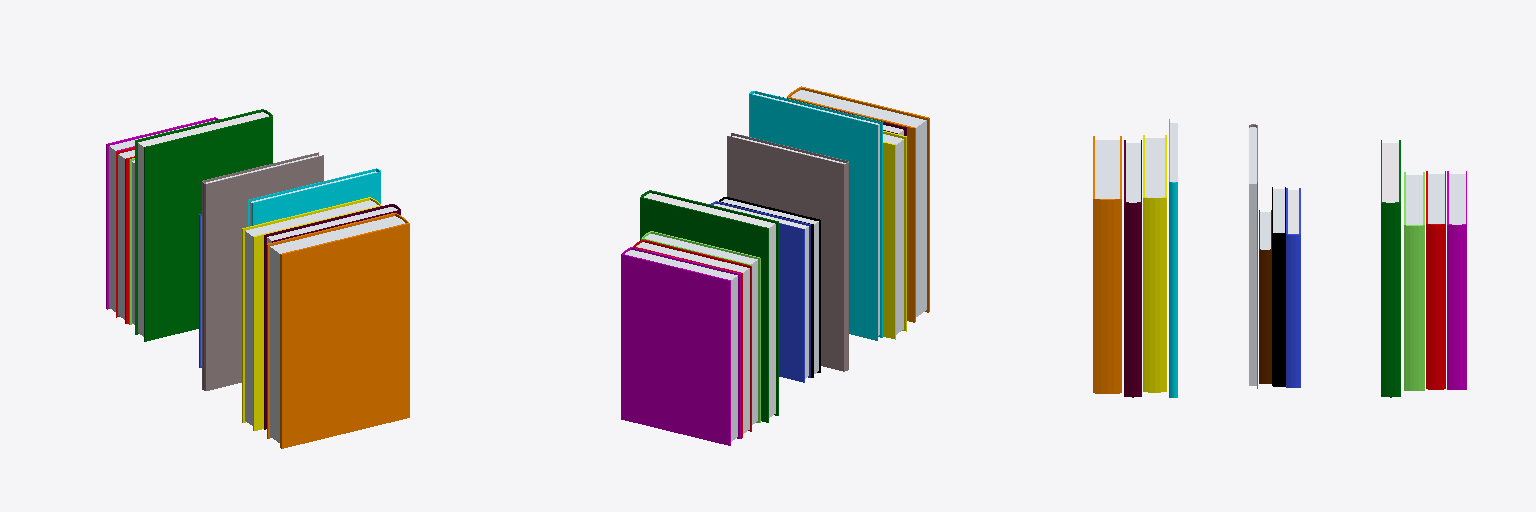
3 views of the same model, side by side, from view 1: azimuth 30°, elevation 25°; view 2: azimuth 150°, elevation 25°; view 3: azimuth 270°, elevation 25° (orthographic).
Visible parts, largest first — view 1: Book_001_Cube.011, Book_002_Cube.010, Book_006_Cube.006, Book_011_Cube.001, Book_010_Cube.002, Book_008_Cube.004, Book_009_Cube.003, Book_012_Cube, Book_007_Cube.005; view 2: Book_009_Cube.003, Book_010_Cube.002, Book_006_Cube.006, Book_002_Cube.010, Book_001_Cube.011, Book_004_Cube.008, Book_011_Cube.001, Book_008_Cube.004, Book_007_Cube.005, Book_003_Cube.009; view 3: Book_001_Cube.011, Book_011_Cube.001, Book_002_Cube.010, Book_012_Cube, Book_007_Cube.005, Book_009_Cube.003, Book_008_Cube.004, Book_004_Cube.008, Book_003_Cube.009, Book_010_Cube.002, Book_006_Cube.006, Book_005_Cube.007.
Part boxes in pixels (left/top/right/bottom): Book_001_Cube.011: left=267, top=213, right=409, bottom=448; Book_002_Cube.010: left=135, top=109, right=272, bottom=341; Book_006_Cube.006: left=202, top=152, right=323, bottom=390; Book_011_Cube.001: left=242, top=197, right=381, bottom=430; Book_010_Cube.002: left=248, top=168, right=380, bottom=226; Book_008_Cube.004: left=116, top=147, right=134, bottom=323; Book_009_Cube.003: left=106, top=117, right=219, bottom=311; Book_012_Cube: left=264, top=204, right=400, bottom=429; Book_007_Cube.005: left=129, top=158, right=134, bottom=324; Book_009_Cube.003: left=621, top=247, right=740, bottom=445; Book_010_Cube.002: left=749, top=91, right=882, bottom=340; Book_006_Cube.006: left=727, top=133, right=848, bottom=371; Book_002_Cube.010: left=640, top=190, right=778, bottom=422; Book_001_Cube.011: left=787, top=86, right=929, bottom=322; Book_004_Cube.008: left=710, top=201, right=810, bottom=382; Book_011_Cube.001: left=883, top=131, right=906, bottom=339; Book_008_Cube.004: left=633, top=240, right=751, bottom=438; Book_007_Cube.005: left=641, top=231, right=760, bottom=424; Book_003_Cube.009: left=719, top=197, right=820, bottom=377; Book_001_Cube.011: left=1093, top=136, right=1121, bottom=393; Book_011_Cube.001: left=1143, top=135, right=1166, bottom=392; Book_002_Cube.010: left=1381, top=140, right=1400, bottom=397; Book_012_Cube: left=1124, top=140, right=1141, bottom=397; Book_007_Cube.005: left=1404, top=172, right=1424, bottom=390; Book_009_Cube.003: left=1447, top=171, right=1466, bottom=389; Book_008_Cube.004: left=1426, top=171, right=1445, bottom=389; Book_004_Cube.008: left=1286, top=188, right=1300, bottom=387; Book_003_Cube.009: left=1272, top=187, right=1285, bottom=386; Book_010_Cube.002: left=1169, top=119, right=1177, bottom=397; Book_006_Cube.006: left=1249, top=124, right=1257, bottom=388; Book_005_Cube.007: left=1259, top=210, right=1271, bottom=383.
Bounding box in the file's own units: 1.52 × 2.22 × 3.5.
Materials: 1 (1 with a texture image).